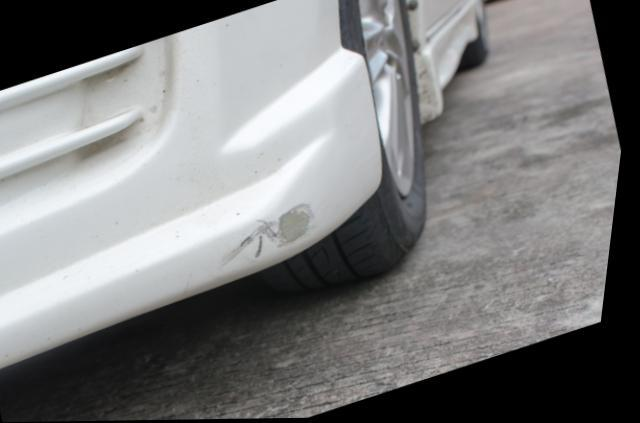scratch: (229, 198, 324, 267)
